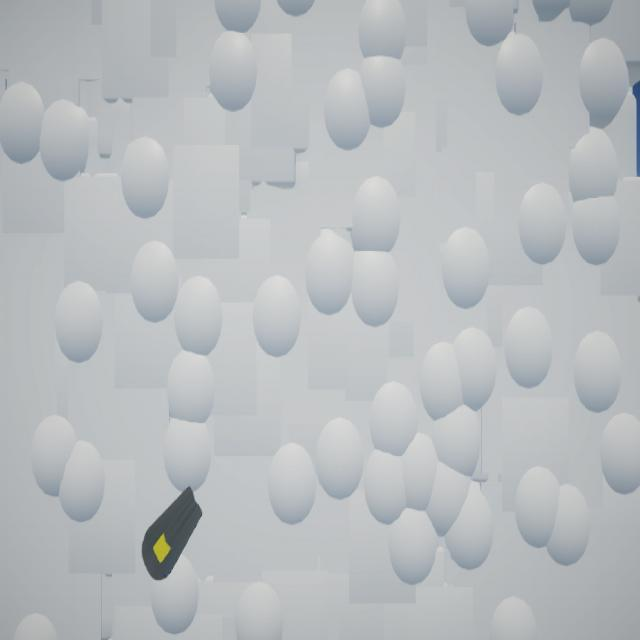handle_folk: (143, 487, 204, 582)
